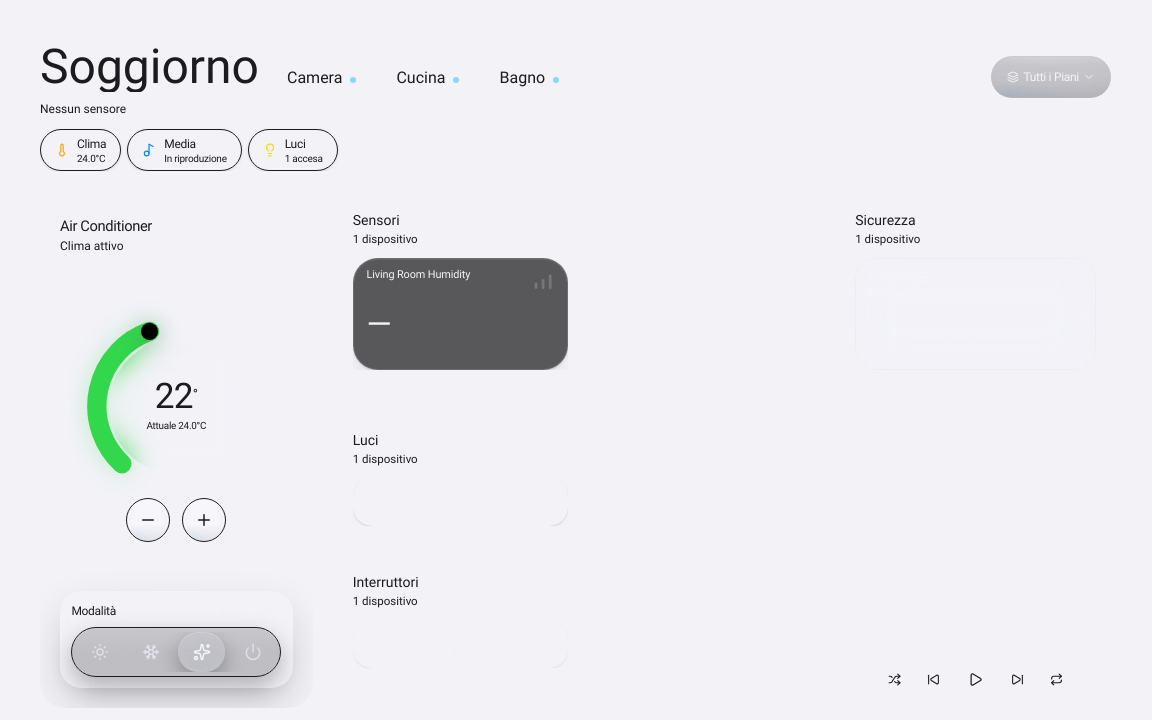
Test case: RoomsDashboard permissions › exposes local room management to an authorized dashboard editor
This screenshot has width=1152, height=720.
What coordinates should you click on to do the following:
click the button with aria-label "Apri lista piani"
I would click on:
 (1051, 77)
Its box is 990,55 -> 1112,99.
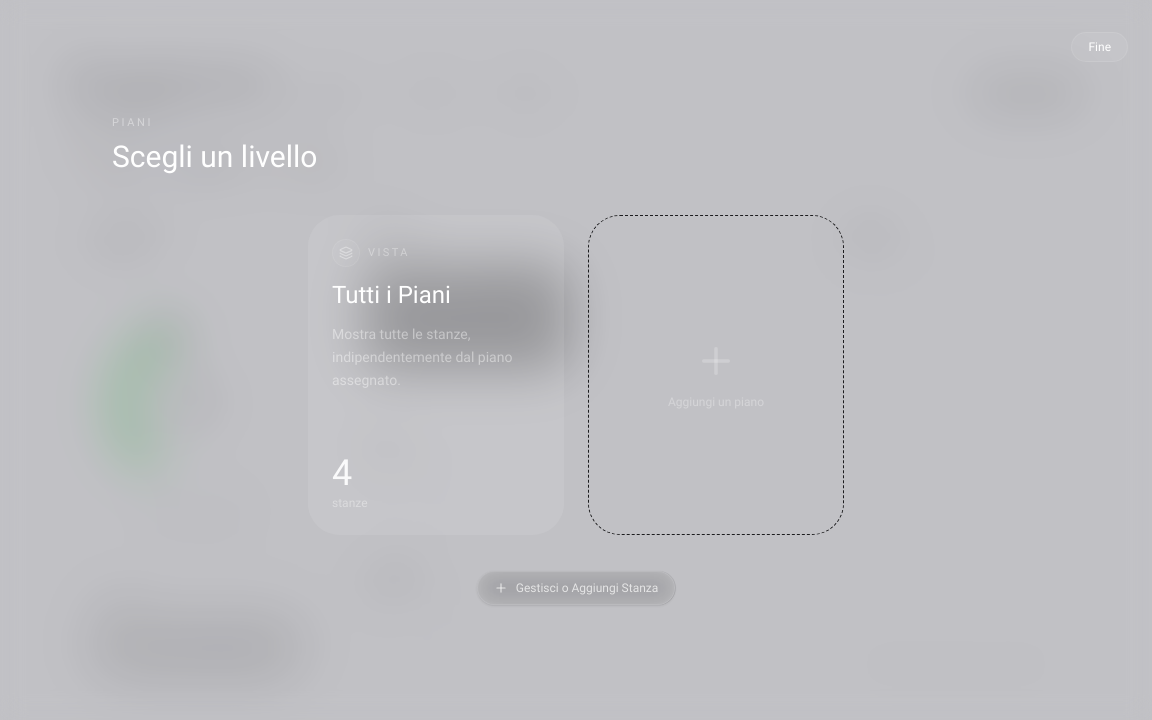
Now the button "Gestisci o Aggiungi Stanza" is shown, box 477,571 -> 675,605
